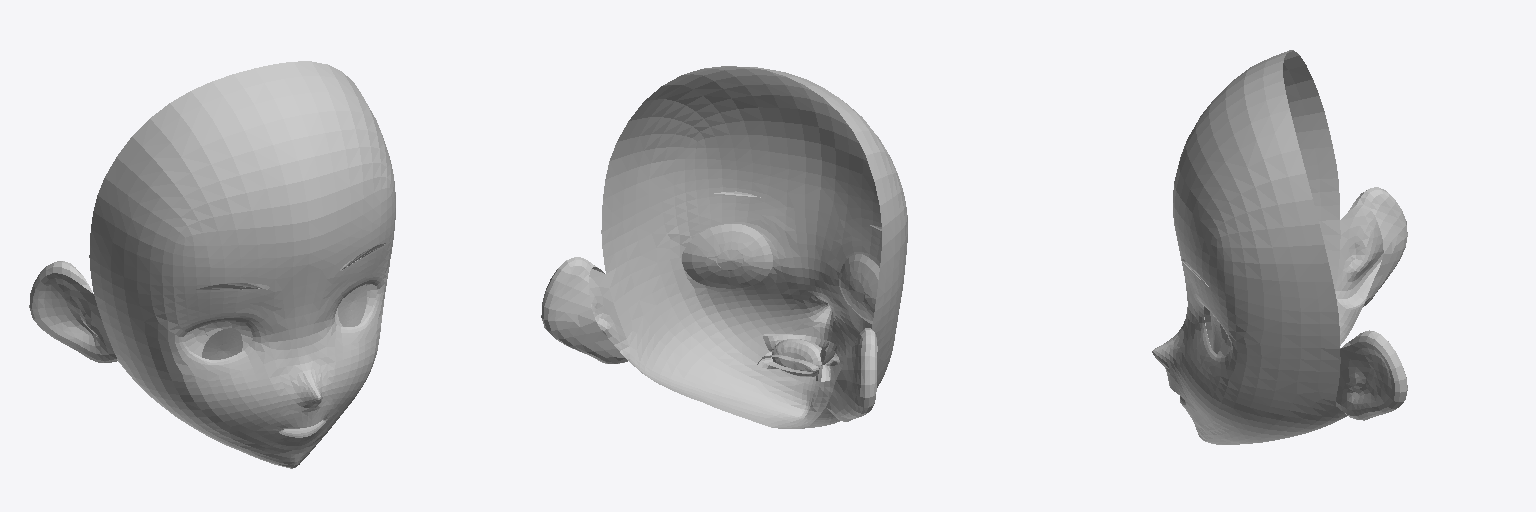
Rendered from eyeLookDownRight.obj.
3 views of the same model, side by side, from view 1: azimuth 30°, elevation 25°; view 2: azimuth 150°, elevation 25°; view 3: azimuth 270°, elevation 25° (orthographic).
Parts seen in each view (by area): view 1: Face; view 2: Face; view 3: Face.
Part boxes in pixels (bbox=[...]): Face: bbox=[29, 61, 395, 468]; Face: bbox=[541, 66, 907, 428]; Face: bbox=[1152, 50, 1407, 444].
Bounding box in the file's own units: 0.2176 × 0.2333 × 0.1449.